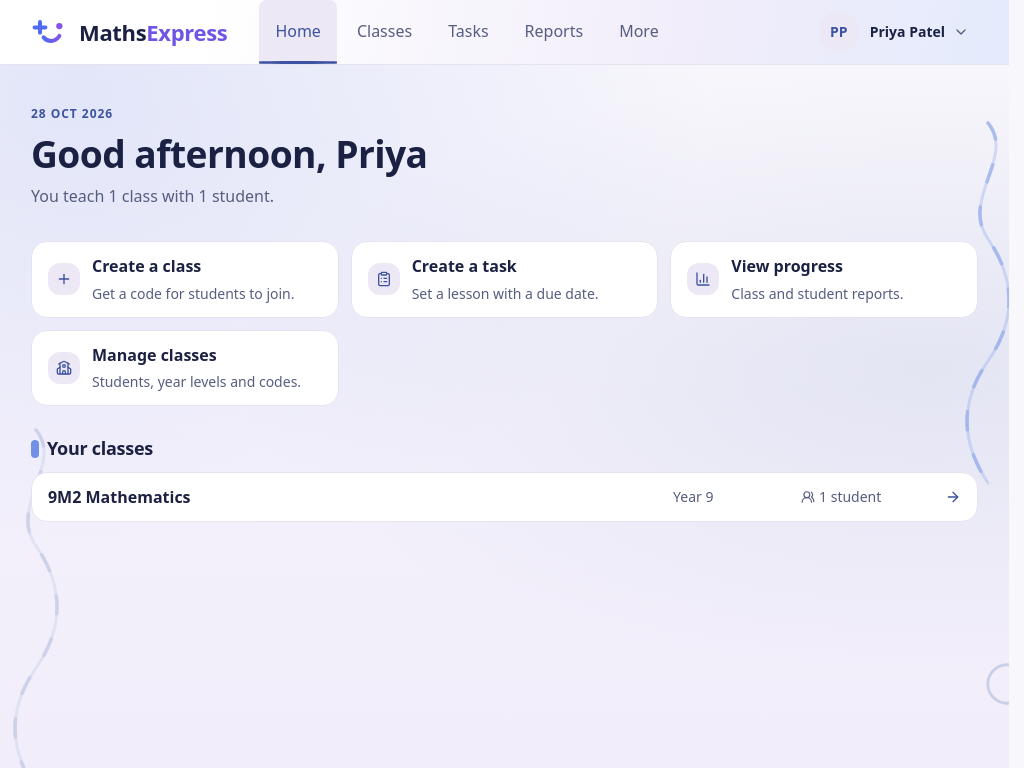
Test: account menu and signing out › closes with Escape and returns focus to the button
Click the button with aria-label "Account: Priya Patel". click: [894, 32]
box: [811,4,978,60]
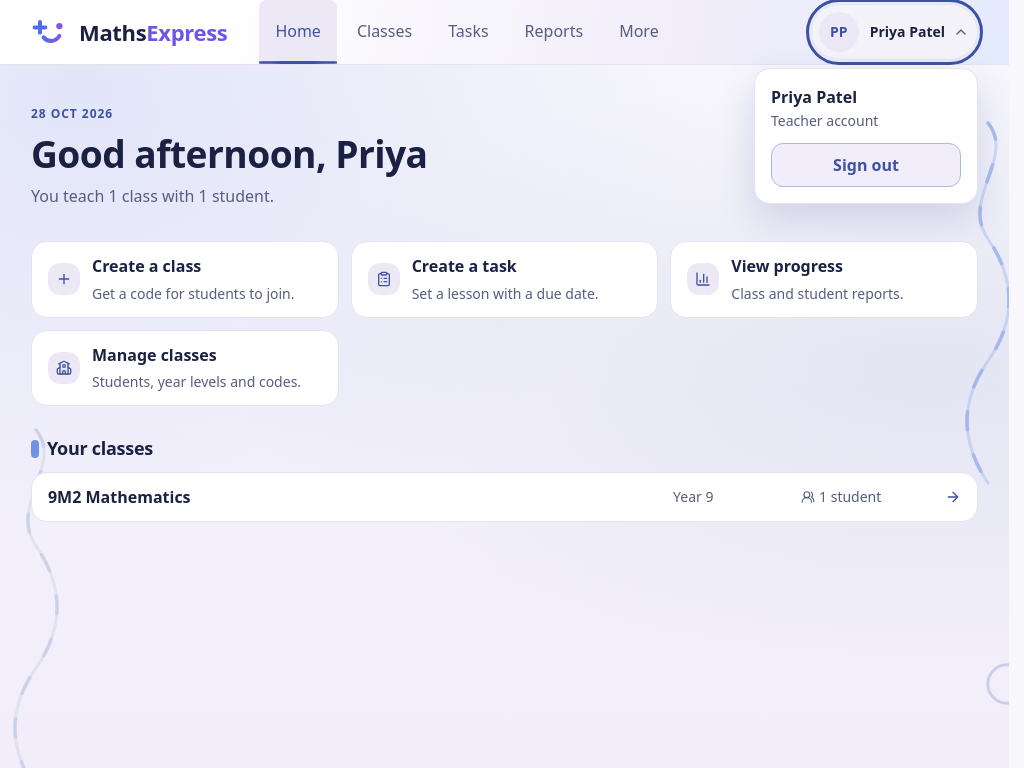
Press Escape
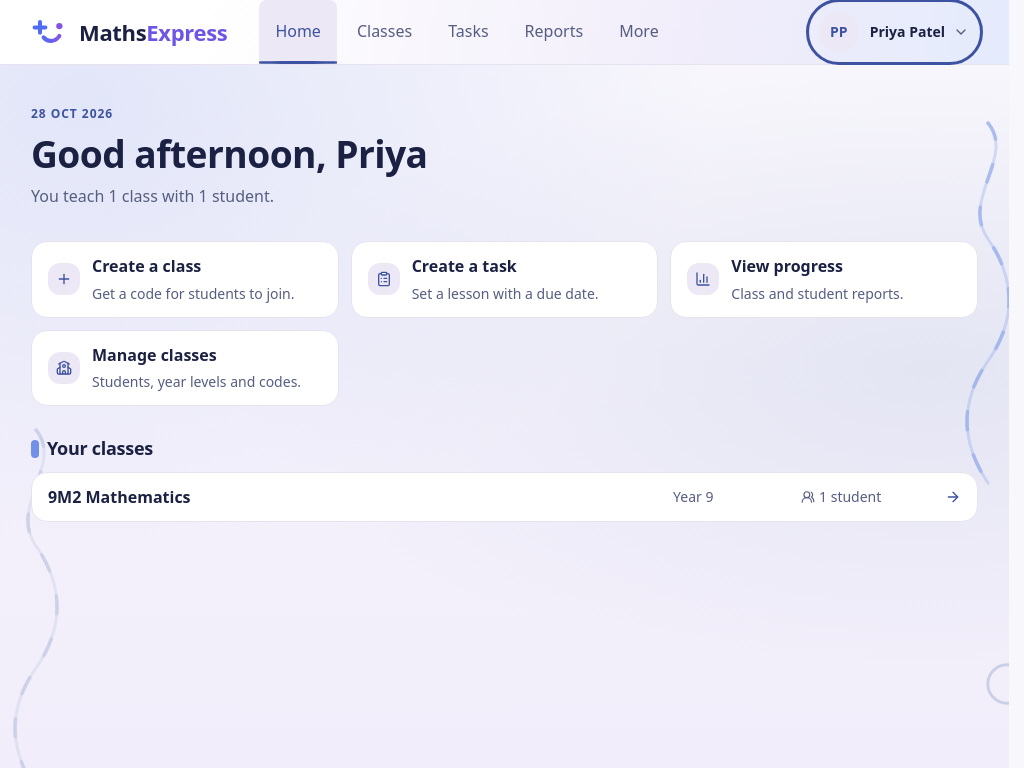
Expected: the button with aria-label "Account: Priya Patel" is collapsed, [811,4,978,60]
Expected: the button "Sign out" is gone
